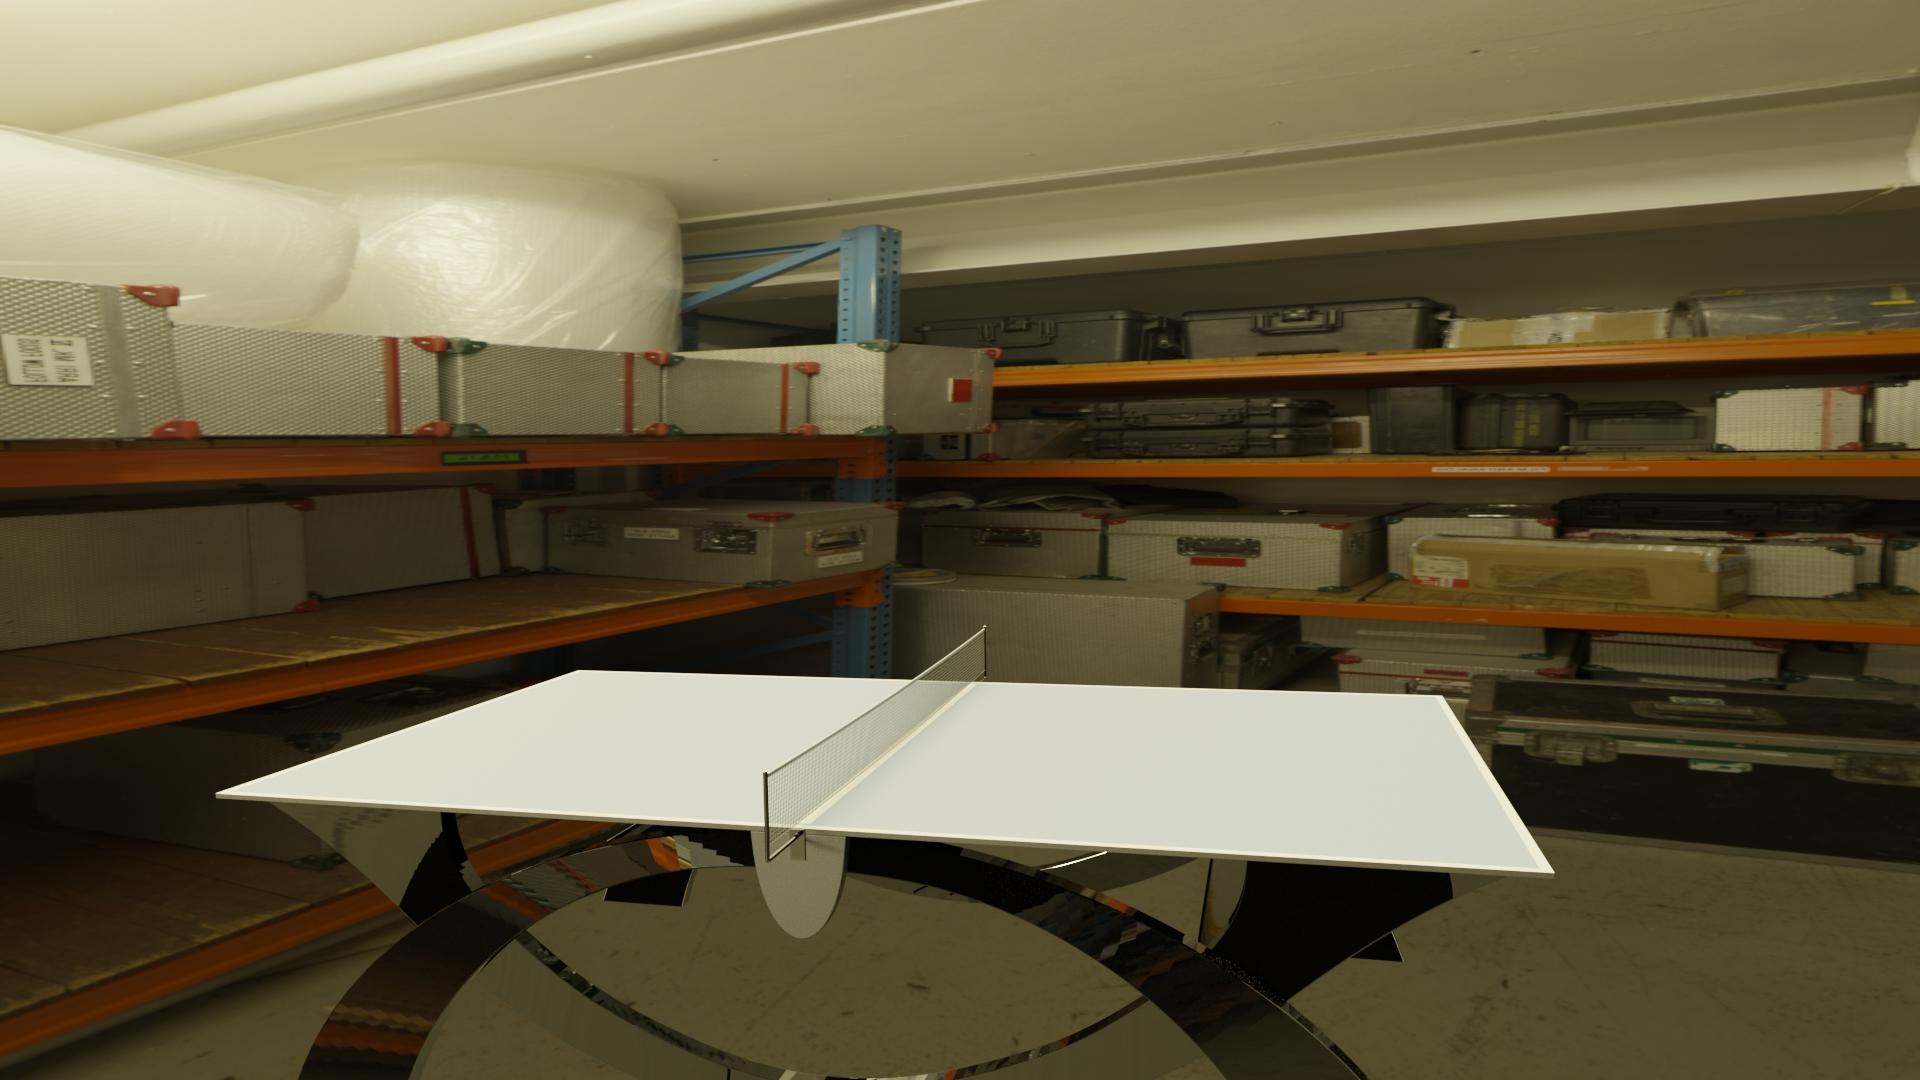table: (231, 671, 1539, 869)
